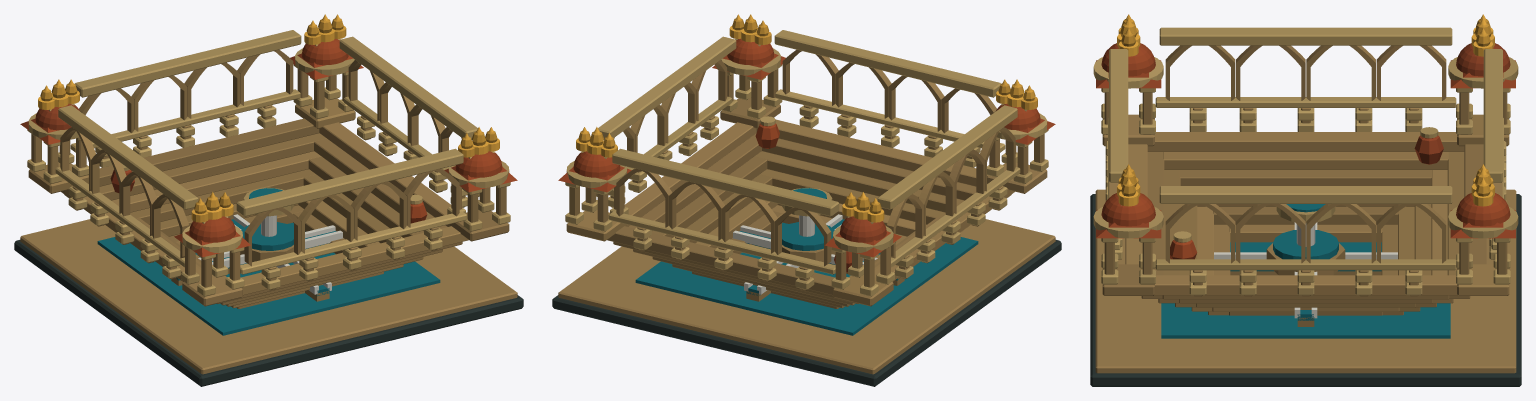
3 views of the same model, side by side, from view 1: azimuth 30°, elevation 25°; view 2: azimuth 150°, elevation 25°; view 3: azimuth 270°, elevation 25° (orthographic). The views are drawn at different scales.
Parts seen in each view (by area): view 1: stepwell_level7_structure, stepwell_level7_metal; view 2: stepwell_level7_structure, stepwell_level7_metal; view 3: stepwell_level7_structure, stepwell_level7_metal.
Part boxes in pixels (x1,y1,x2,y2): stepwell_level7_structure: [14, 18, 523, 386]; stepwell_level7_metal: [38, 14, 499, 222]; stepwell_level7_structure: [552, 18, 1061, 386]; stepwell_level7_metal: [576, 14, 1037, 222]; stepwell_level7_structure: [1090, 19, 1521, 386]; stepwell_level7_metal: [1117, 14, 1494, 206].
Size of the model in its own units: 5.6 by 2.93 by 5.6.
